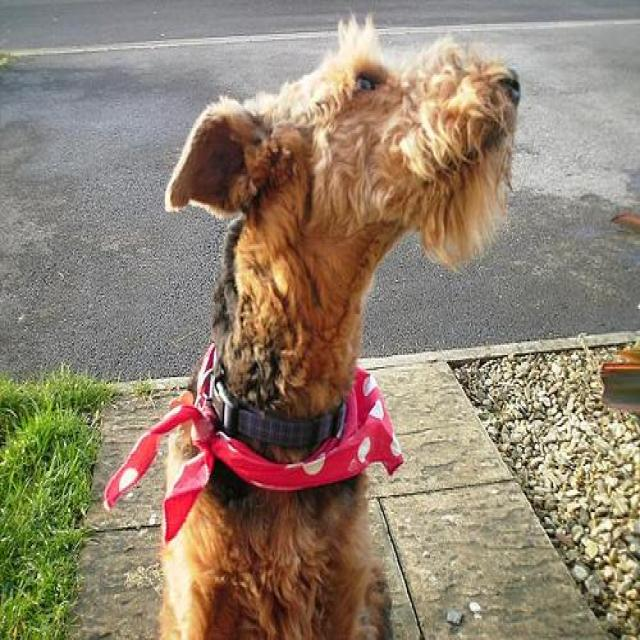airedale: (158, 7, 524, 638)
